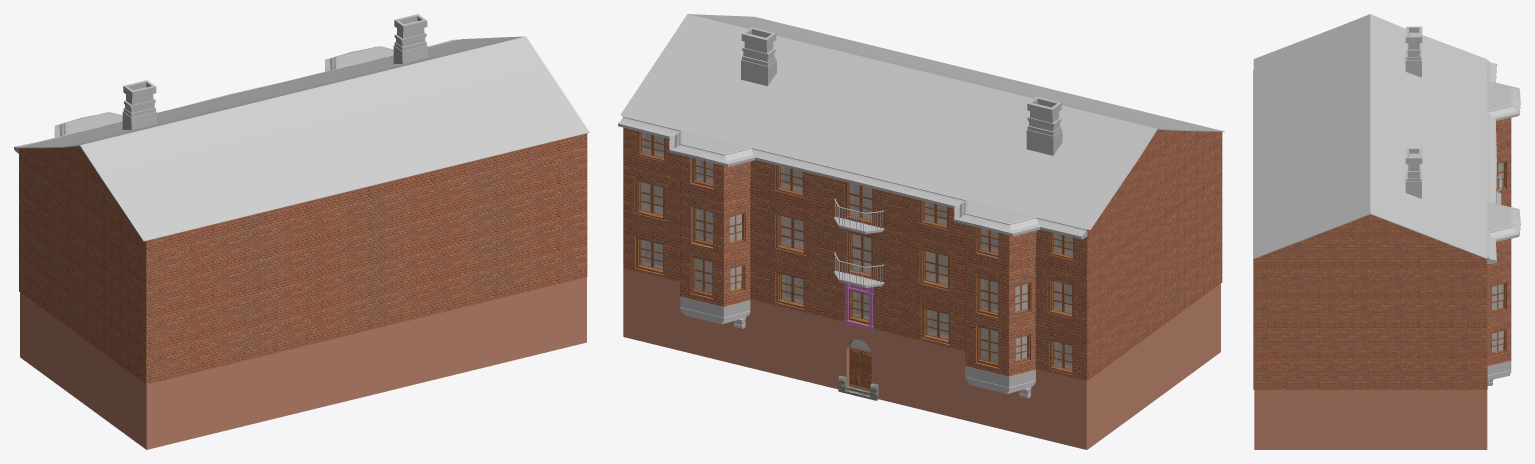
File: Apartment3_Low.fbx
3 renders of one model, left to right at view 1: azimuth 30°, elevation 25°; view 2: azimuth 150°, elevation 25°; view 3: azimuth 270°, elevation 25°, orthographic. The views are drawn at different scales.
Parts seen in each view (by area): view 1: Apartment3, FullHouse.139, Apartment3.008, Apartment3.004, Apartment3.006, Apartment3.003, Apartment3.007, Apartment3.005, Apartment3.002, 5th_L_C.007; view 2: Apartment3, FullHouse.139, Apartment3.008, Apartment3.006, Apartment3.004, Apartment3.002, 5th_L_C.007, Apartment3.005, Apartment3.003, Apartment3.007, Apartment3.001, Cube.006 (+20 smaller); view 3: FullHouse.139, Apartment3, Apartment3.002, 5th_L_C.007, FullHouse.221, Apartment3.001, FullHouse.224, FullHouse.195.
Boxes of the visible parts, left/top/right/bottom form: Apartment3: left=19, top=55, right=587, bottom=384; FullHouse.139: left=14, top=36, right=589, bottom=241; Apartment3.008: left=20, top=292, right=195, bottom=449; Apartment3.004: left=393, top=307, right=465, bottom=389; Apartment3.006: left=261, top=339, right=332, bottom=421; Apartment3.003: left=466, top=290, right=532, bottom=371; Apartment3.007: left=195, top=356, right=261, bottom=437; Apartment3.005: left=333, top=324, right=393, bottom=404; Apartment3.002: left=533, top=277, right=586, bottom=355; 5th_L_C.007: left=122, top=14, right=427, bottom=129; Apartment3: left=623, top=127, right=1222, bottom=380; FullHouse.139: left=618, top=14, right=1224, bottom=239; Apartment3.008: left=1036, top=283, right=1220, bottom=449; Apartment3.006: left=890, top=333, right=966, bottom=420; Apartment3.004: left=750, top=299, right=825, bottom=386; Apartment3.002: left=623, top=268, right=680, bottom=350; 5th_L_C.007: left=741, top=27, right=1062, bottom=155; Apartment3.005: left=826, top=317, right=889, bottom=401; Apartment3.003: left=680, top=299, right=750, bottom=367; Apartment3.007: left=966, top=369, right=1035, bottom=437; Apartment3.001: left=680, top=296, right=1035, bottom=398; Cube.006: left=834, top=198, right=884, bottom=287; FullHouse.139: left=1253, top=14, right=1520, bottom=263; Apartment3: left=1253, top=70, right=1511, bottom=389; Apartment3.002: left=1254, top=390, right=1487, bottom=449; 5th_L_C.007: left=1405, top=26, right=1422, bottom=198; FullHouse.221: left=1491, top=282, right=1506, bottom=313; Apartment3.001: left=1487, top=361, right=1511, bottom=385; FullHouse.224: left=1491, top=329, right=1506, bottom=355; FullHouse.195: left=1496, top=161, right=1506, bottom=190.
Bounding box in the file's own units: 28.35 × 17.04 × 16.06.
